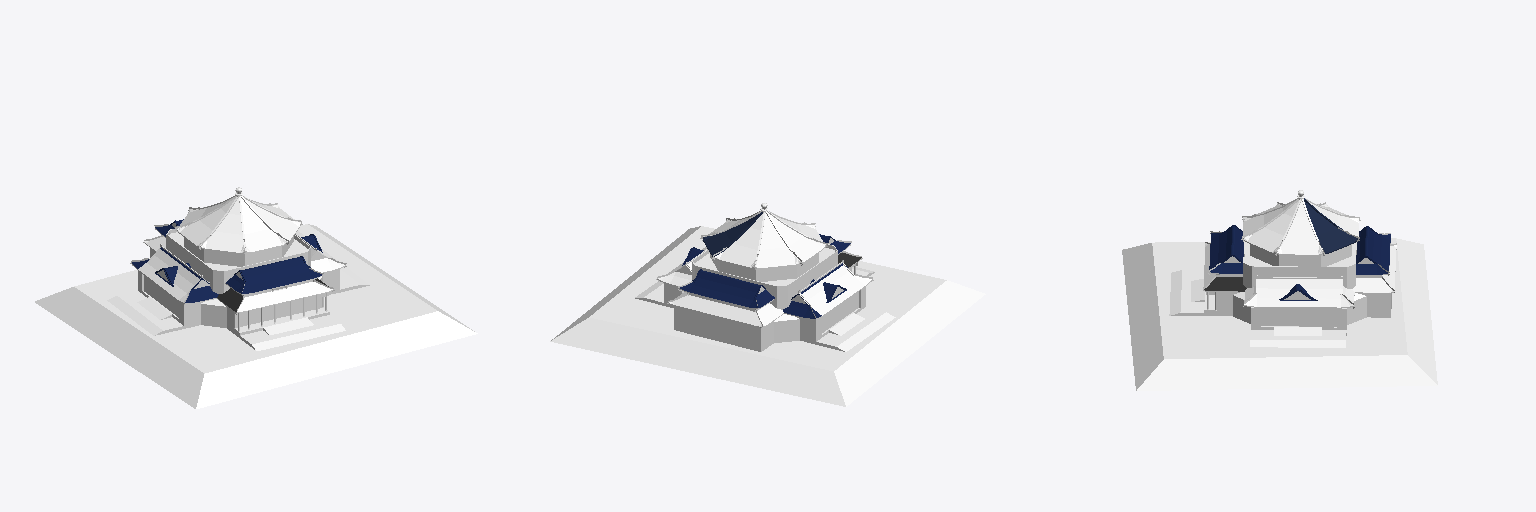
3 renders of one model, left to right at view 1: azimuth 30°, elevation 25°; view 2: azimuth 150°, elevation 25°; view 3: azimuth 270°, elevation 25°, orthographic.
Visible parts, largest first — view 1: skpEF28_001; view 2: skpEF28_001; view 3: skpEF28_001.
Part boxes in pixels (bbox=[...]): skpEF28_001: bbox=[35, 187, 477, 408]; skpEF28_001: bbox=[550, 203, 985, 406]; skpEF28_001: bbox=[1122, 190, 1437, 390].
Bounding box in the file's own units: 4753 × 1869 × 4329.